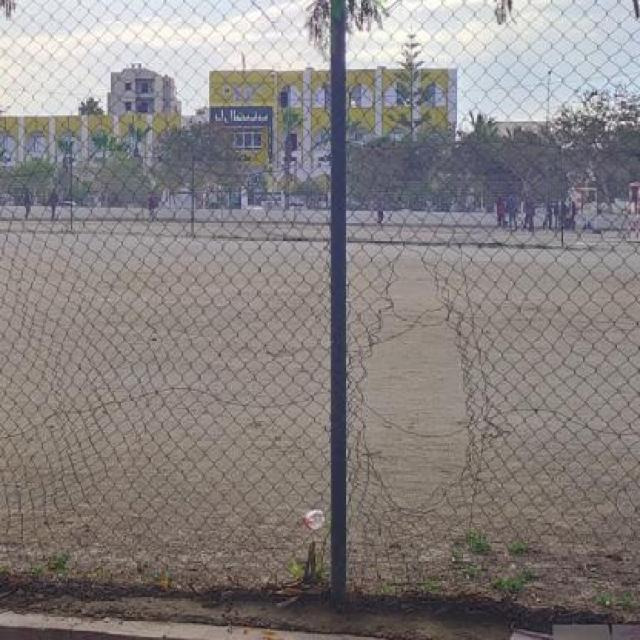fence line: (359, 253, 487, 519)
